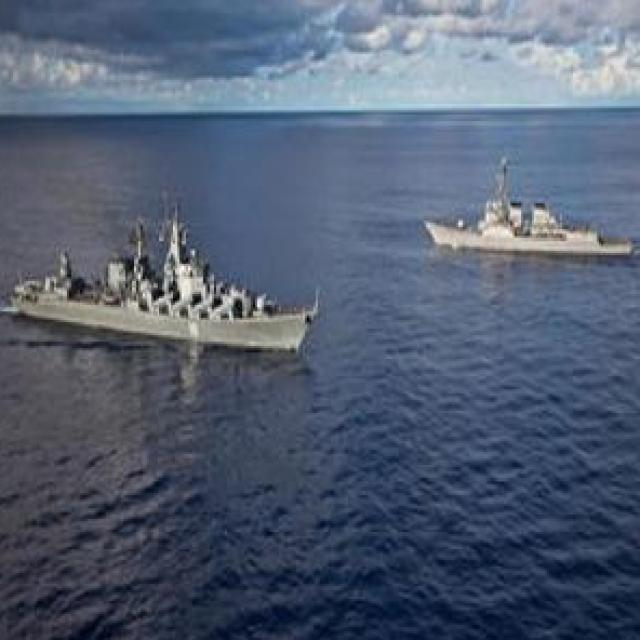navalvessels: (7, 200, 320, 352), (430, 147, 640, 255)
